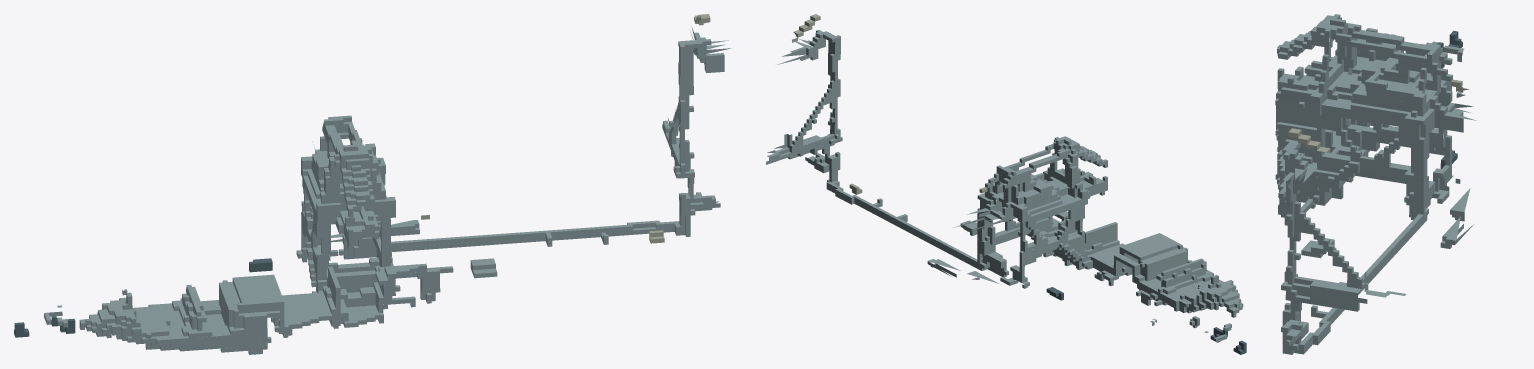
3 renders of one model, left to right at view 1: azimuth 30°, elevation 25°; view 2: azimuth 150°, elevation 25°; view 3: azimuth 270°, elevation 25°, orthographic. The views are drawn at different scales.
Visible parts, largest first — view 1: measured-industrial; view 2: measured-industrial; view 3: measured-industrial.
Boxes of the visible parts, x1,y1,x2,y2 form: measured-industrial: (14,14,730,354); measured-industrial: (766,14,1246,354); measured-industrial: (1275,14,1476,354).
Bounding box in the file's own units: 240 × 79.21 × 71.27.
